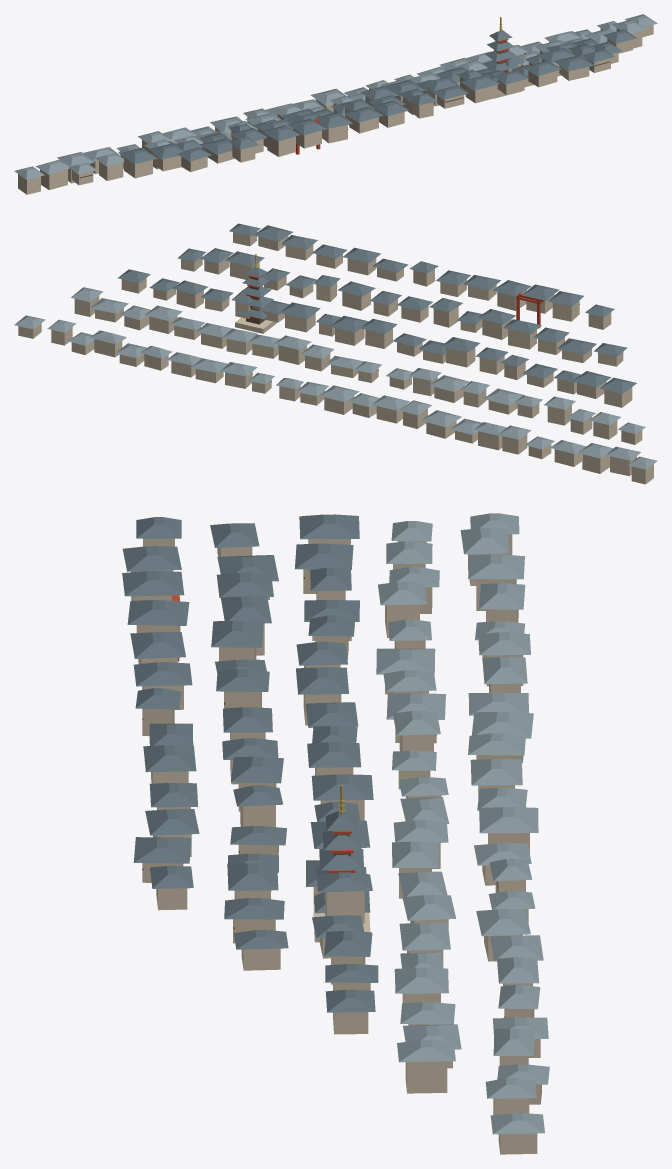
Rendered from summit_kyoto_landmarks.glb.
The picture shows the model from 3 angles, top to bottom: view 1: azimuth 30°, elevation 25°; view 2: azimuth 150°, elevation 25°; view 3: azimuth 270°, elevation 25°; orthographic projection. The views are drawn at different scales.
Parts seen in each view (by area): view 1: Summit Kyoto Landmarks; view 2: Summit Kyoto Landmarks; view 3: Summit Kyoto Landmarks.
Part boxes in pixels (x1,y1,x2,y2): Summit Kyoto Landmarks: [14, 14, 657, 194]; Summit Kyoto Landmarks: [14, 223, 657, 484]; Summit Kyoto Landmarks: [122, 513, 549, 1154].
Bounding box in the file's own units: 79.5 × 11.43 × 23.5.
